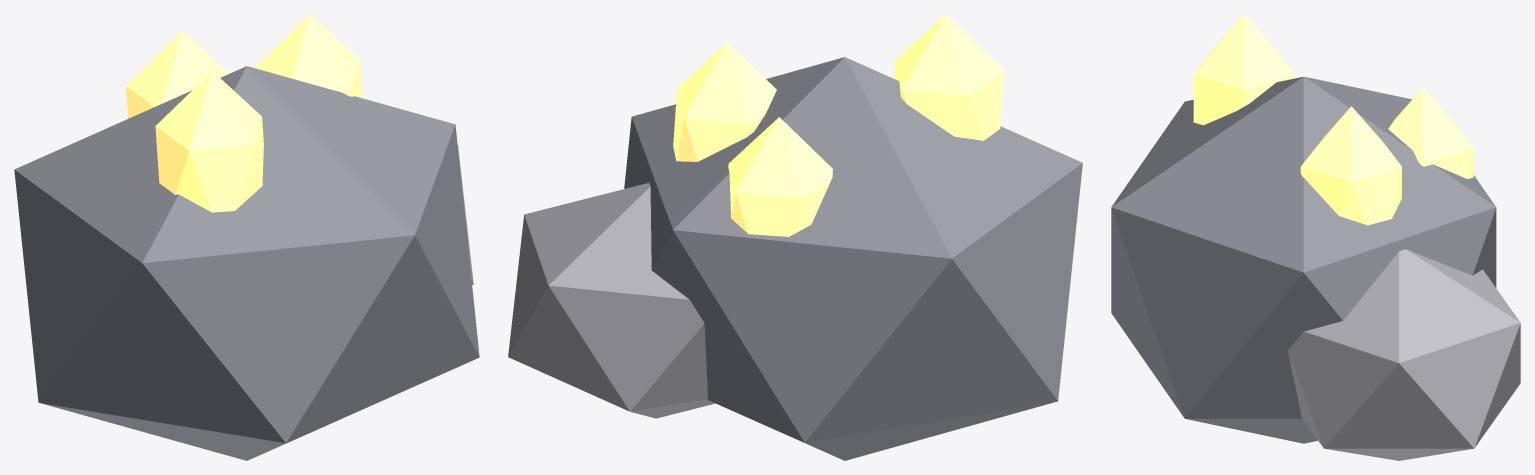
Rendered from gold_node.glb.
3 views of the same model, side by side, from view 1: azimuth 30°, elevation 25°; view 2: azimuth 150°, elevation 25°; view 3: azimuth 270°, elevation 25° (orthographic). The views are drawn at different scales.
Visible parts, largest first — view 1: GoldNodeRock; view 2: GoldNodeRock; view 3: GoldNodeRock.
Part boxes in pixels (left/top/right/bottom): GoldNodeRock: left=14, top=14, right=479, bottom=460; GoldNodeRock: left=508, top=14, right=1082, bottom=460; GoldNodeRock: left=1111, top=14, right=1520, bottom=460.
Size of the model in its own units: 0.8482 by 0.74 by 0.6874.
